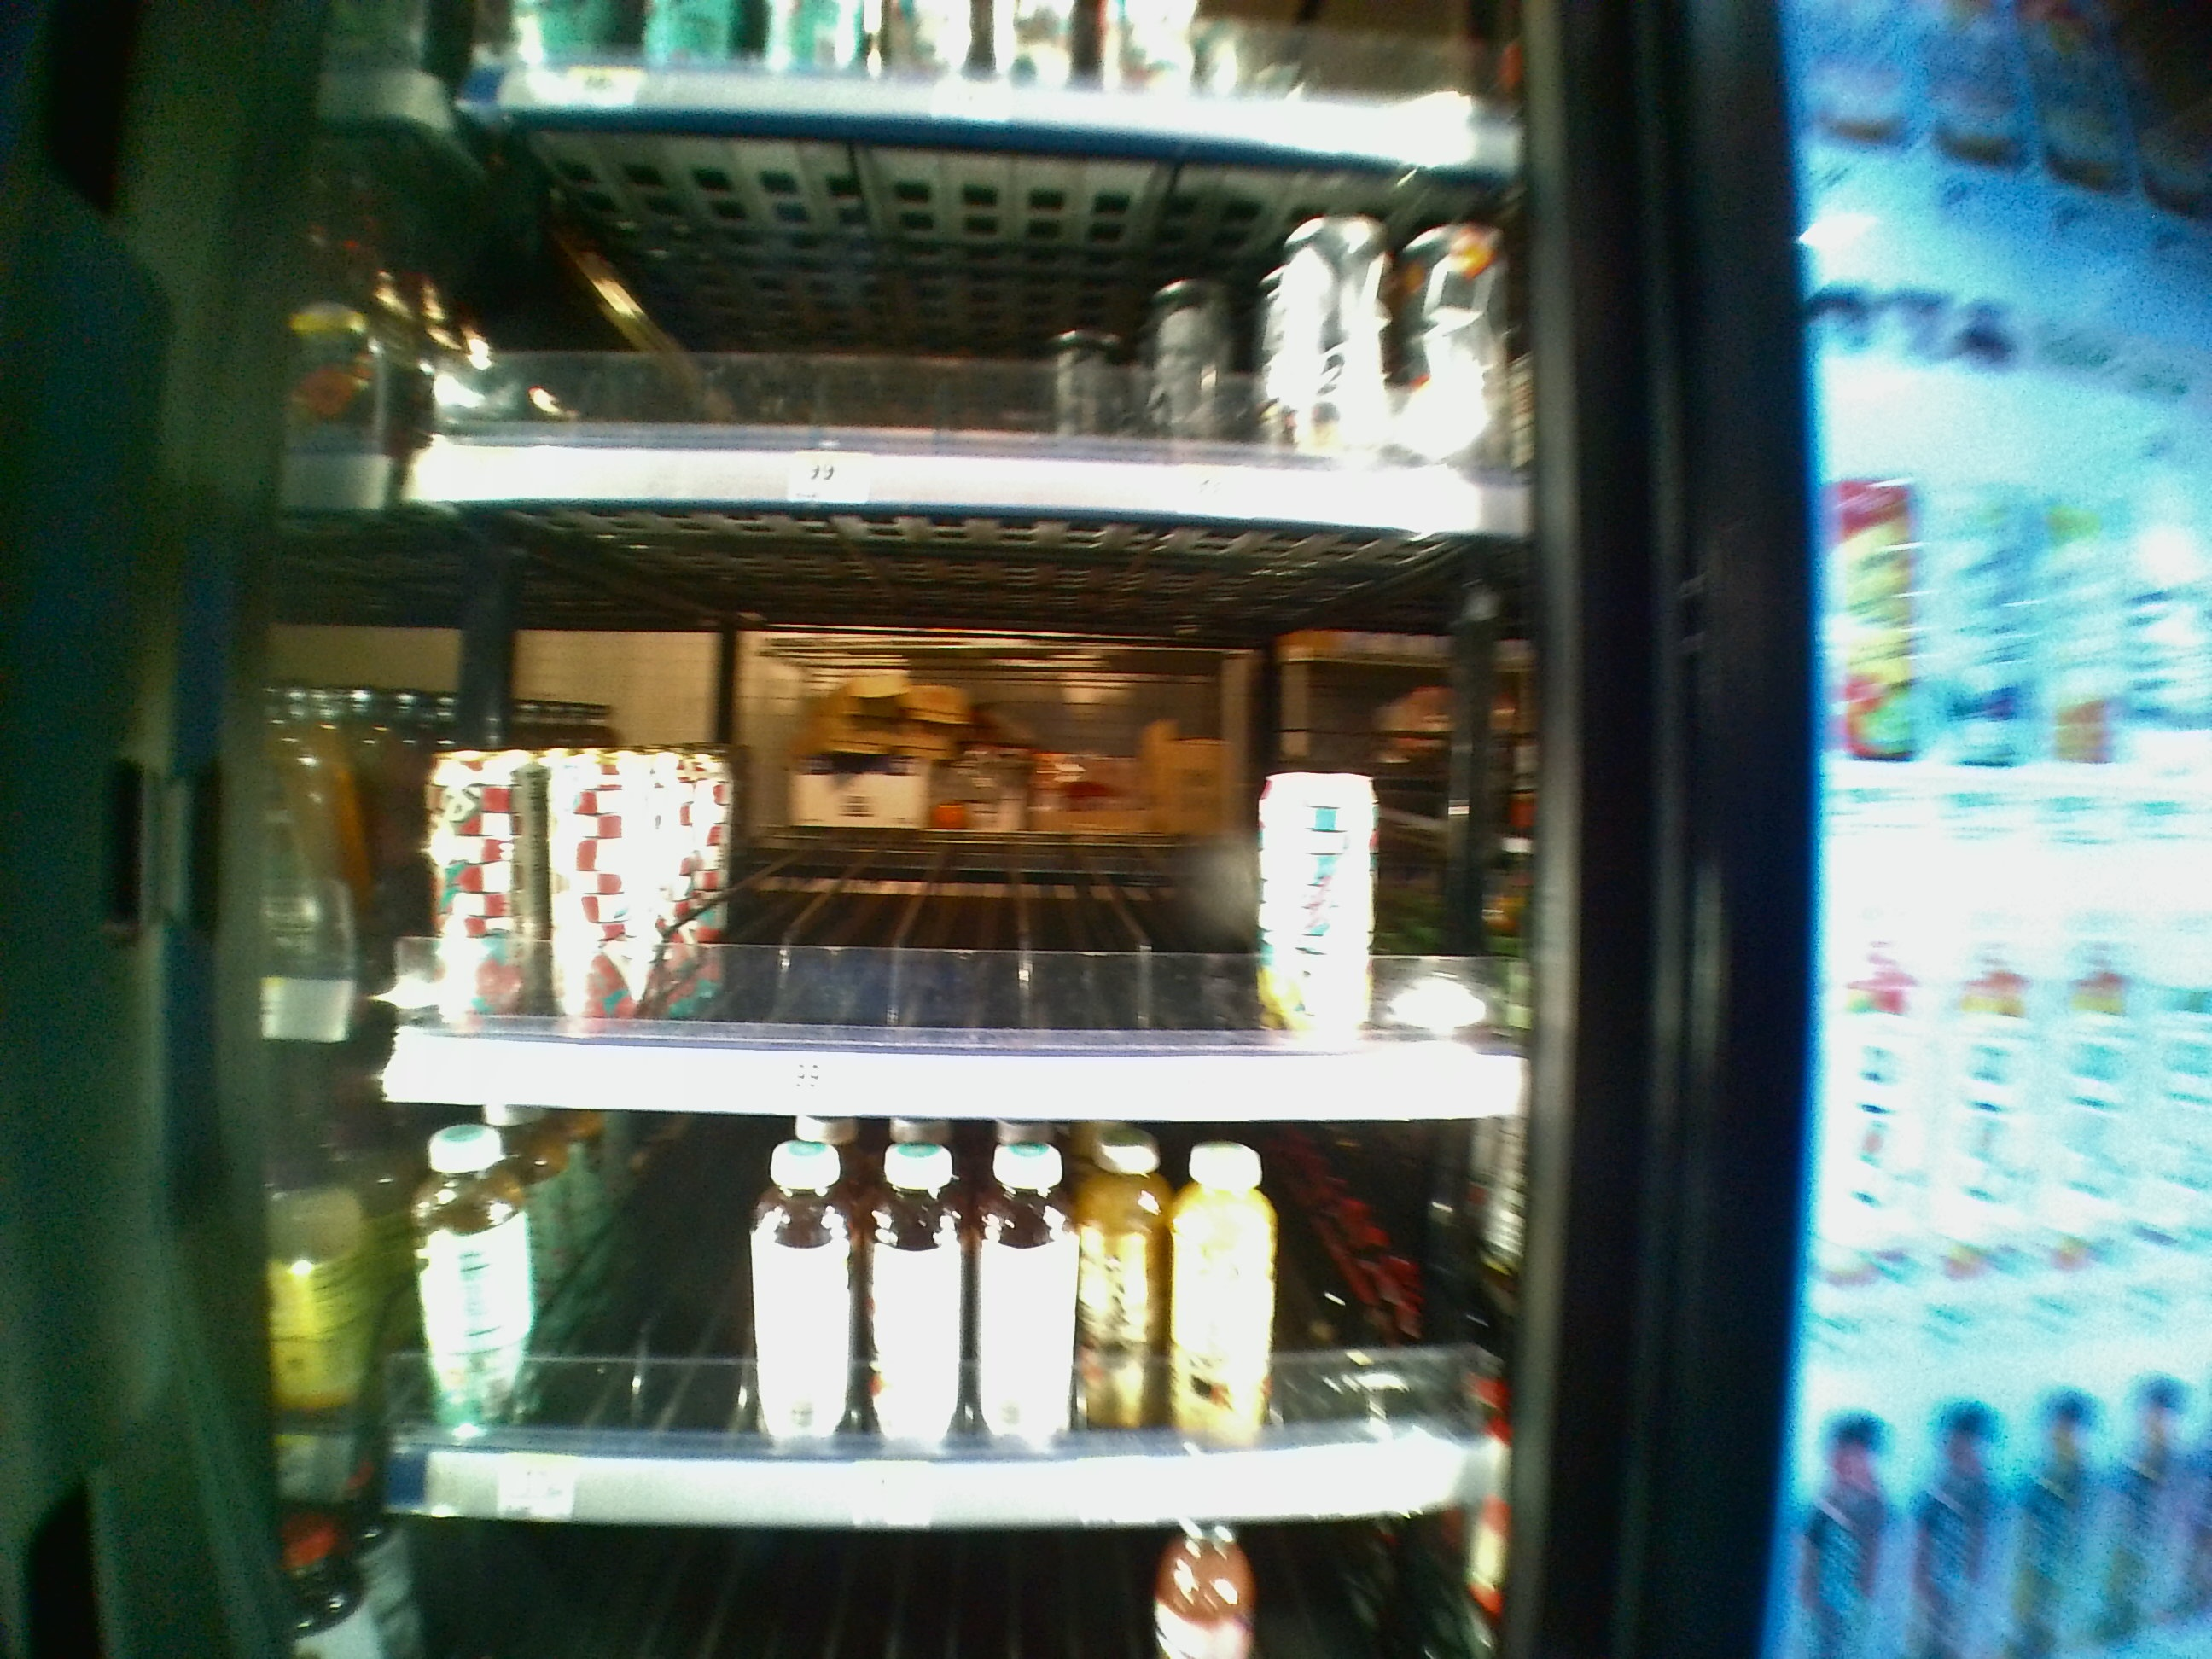shelf: (380, 512, 1526, 1110), (374, 1122, 1521, 1539)
